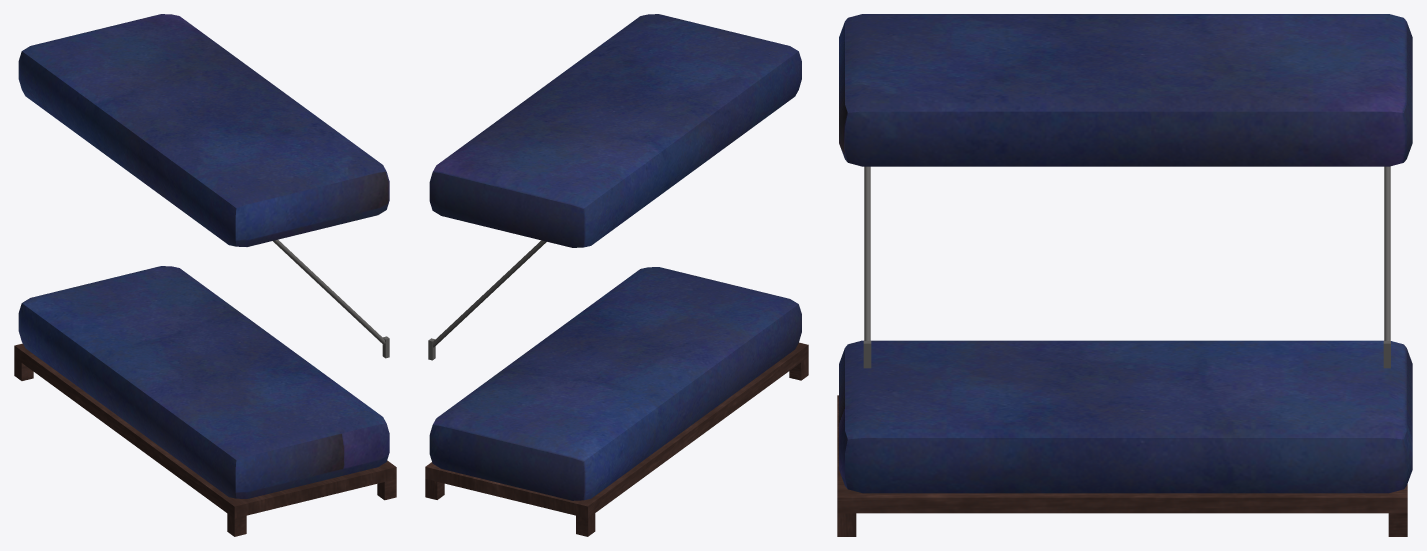
File: SM_Double_Bed.fbx
3 renders of one model, left to right at view 1: azimuth 30°, elevation 25°; view 2: azimuth 150°, elevation 25°; view 3: azimuth 270°, elevation 25°, orthographic. The views are drawn at different scales.
Parts seen in each view (by area): view 1: SM_Double_Bed; view 2: SM_Double_Bed; view 3: SM_Double_Bed.
Boxes of the visible parts, x1,y1,x2,y2 form: SM_Double_Bed: [14, 14, 396, 536]; SM_Double_Bed: [425, 14, 808, 536]; SM_Double_Bed: [837, 14, 1412, 536].
Bounding box in the file's own units: 91.8 × 213 × 175.
1 material, 1 textured.
